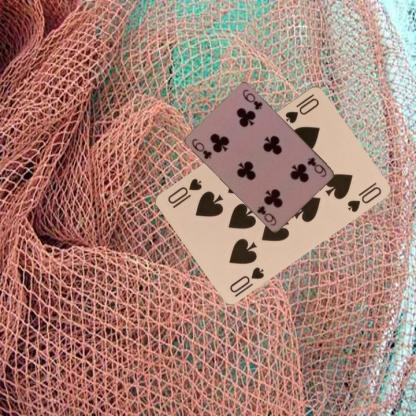10s: (283, 91, 320, 125), (227, 264, 266, 294)
6c: (190, 135, 213, 160), (305, 155, 328, 178)
